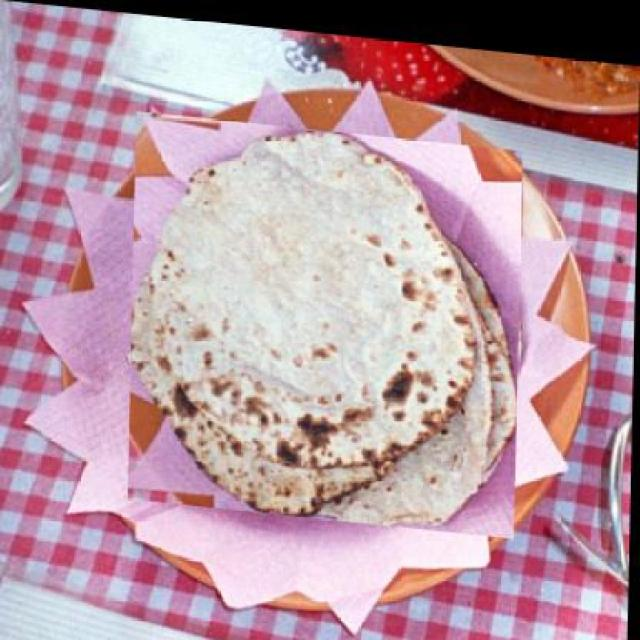chapati: (130, 108, 525, 529)
